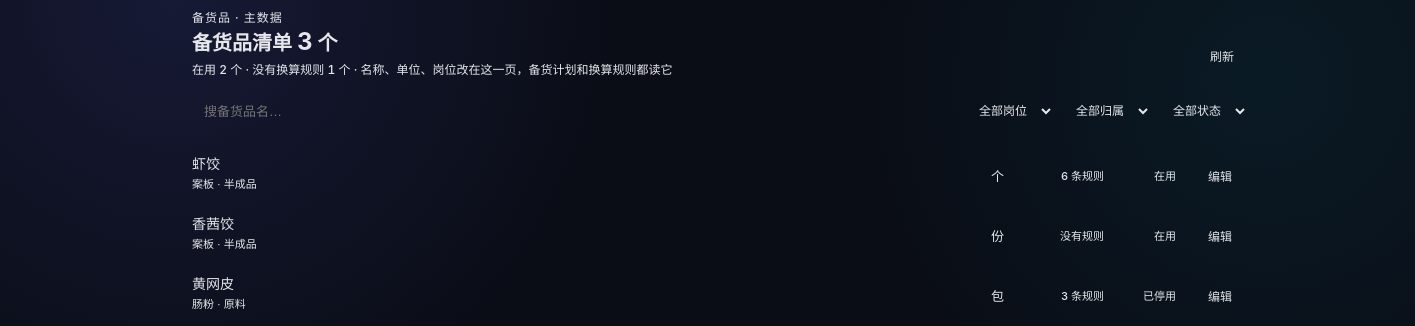
Test: 备货品清单 › 按名字搜索与按归属筛选
Type "网皮" into the search field with placeholder "搜备货品名…" at (574, 111), box [192, 89, 957, 133]
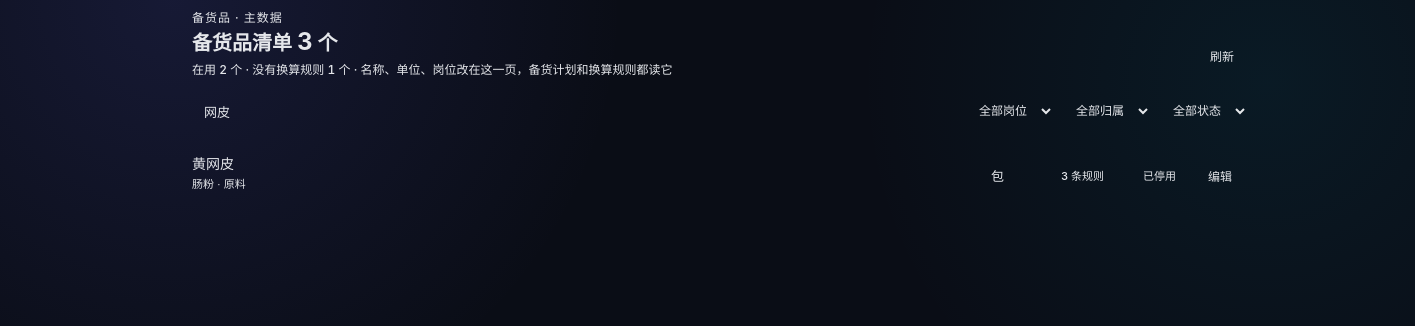
Check: the text "黄网皮" is shown, box [192, 153, 234, 173]
Check: the number of list items is 1, box [192, 145, 1248, 205]
Clear the search field named "搜备货品名" at (574, 111), box [192, 89, 957, 133]
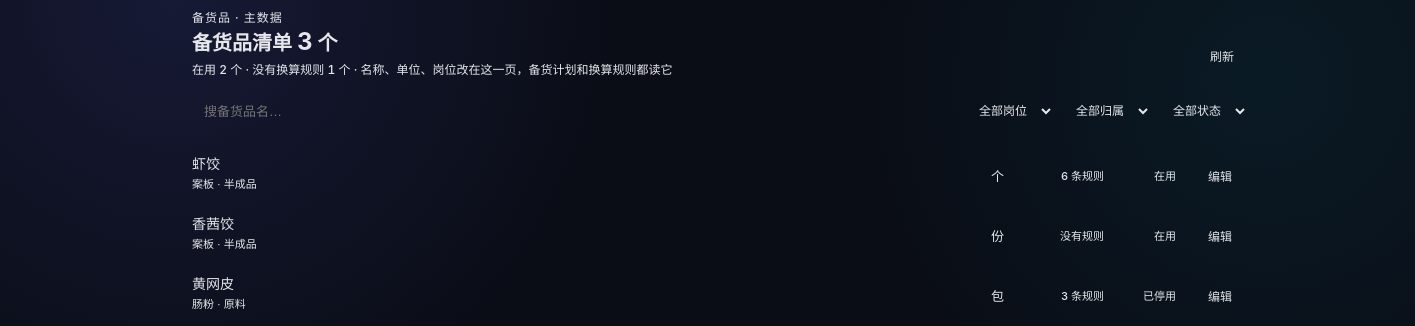
Select "半成品" in the dropdown named "按归属筛选" at (1106, 111), box [1062, 89, 1151, 133]
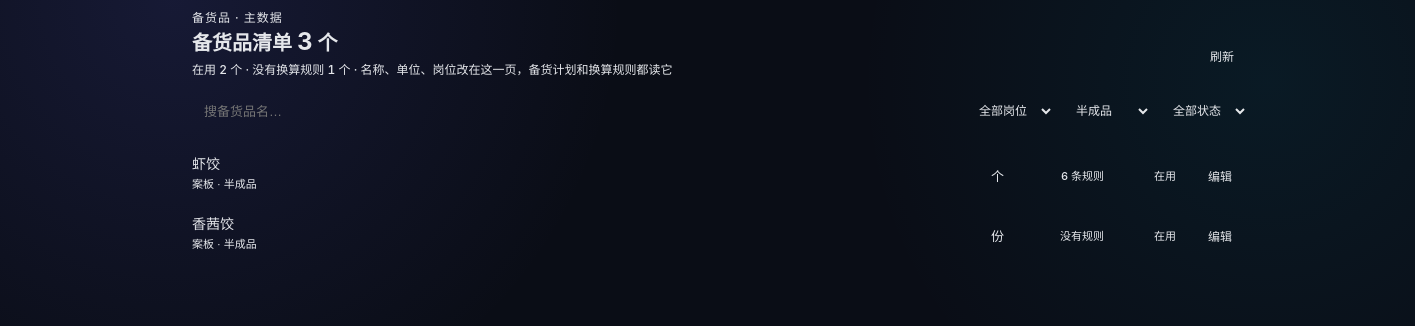
Check: the number of list items is 2, box [192, 145, 1248, 205]; [192, 205, 1248, 265]
